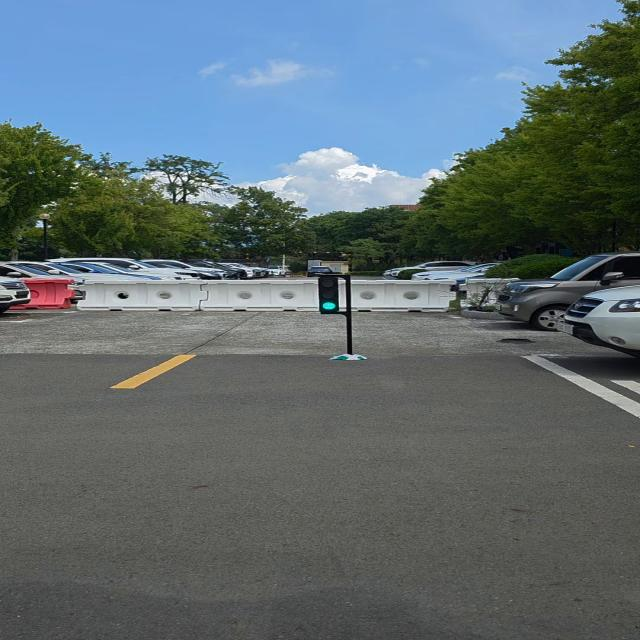green: (320, 276, 344, 313)
